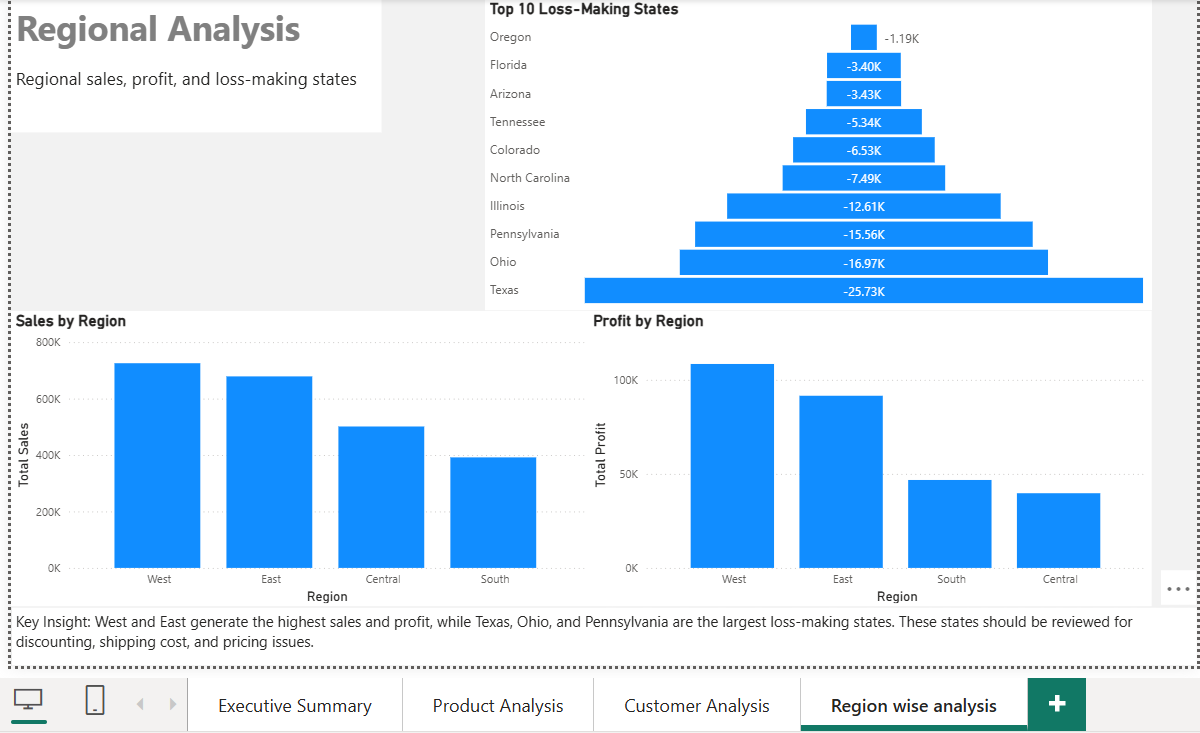

This screenshot's page, from the dashboard's own definition file:
{"tool":"powerbi","page":{"name":"Regional analysis","canvas":[1280,720],"ordinal":3},"visuals":[{"type":"funnel","title":"Top 10 Loss-Making States","fields":{"Category":["FactSales.State"],"Y":["_Measures.Total Profit"]},"box":[512,0,720,336],"z":0},{"type":"columnChart","title":"Sales by Region","fields":{"Category":["FactSales.Region"],"Y":["_Measures.Total Sales"]},"box":[0,336,624,320],"z":1000},{"type":"columnChart","title":"Profit by Region","fields":{"Category":["FactSales.Region"],"Y":["_Measures.Total Profit"]},"box":[624,336,608,320],"z":2000},{"type":"textbox","box":[0,0,400,144],"z":2001},{"type":"textbox","box":[0,656,1280,64],"z":2002}]}

Visuals, with their boxes on the page's 1280x720 design canvas (x1, y1, x2, y2). These are canvas units, not pixel positions in the 1200x733 screenshot, which may show the page scaled, cropped or inside an application window:
"Top 10 Loss-Making States" funnel: crop(512, 0, 1232, 336)
"Sales by Region" columnChart: crop(0, 336, 624, 656)
"Profit by Region" columnChart: crop(624, 336, 1232, 656)
textbox: crop(0, 0, 400, 144)
textbox: crop(0, 656, 1280, 720)
